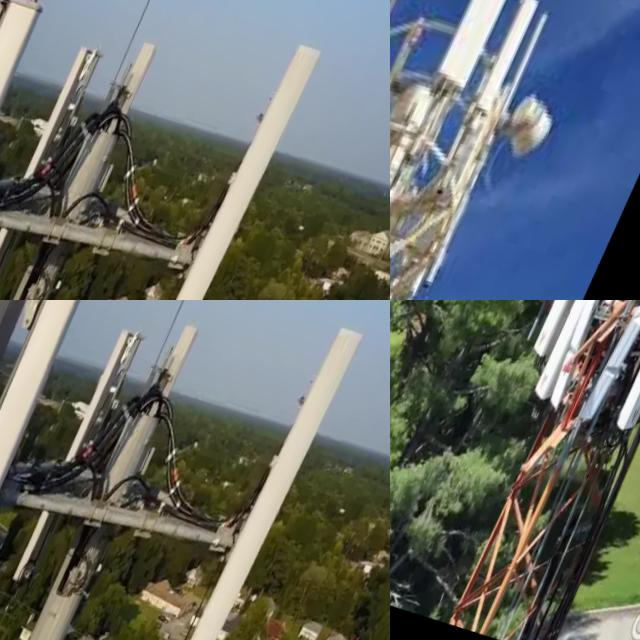GSM Antenna: (200, 326, 371, 640), (184, 43, 330, 300), (12, 324, 145, 588), (0, 35, 116, 300), (430, 0, 582, 106), (0, 300, 80, 500), (527, 300, 640, 422), (480, 0, 547, 124), (534, 300, 635, 365), (111, 41, 168, 132), (153, 321, 207, 408)
Microwave Antenna: (489, 92, 578, 181)
